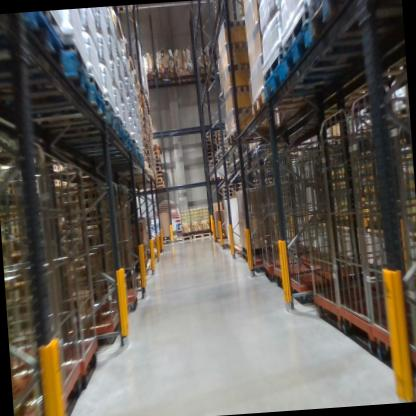pallet: (276, 0, 401, 86), (0, 38, 93, 114), (31, 77, 108, 127), (260, 59, 363, 95), (0, 14, 65, 70), (251, 87, 340, 121), (57, 104, 121, 142), (120, 270, 145, 292), (238, 246, 261, 269), (229, 241, 246, 260), (172, 232, 193, 244), (193, 230, 212, 239), (143, 262, 152, 279), (211, 234, 222, 247), (148, 250, 160, 261), (221, 238, 231, 251), (221, 173, 234, 181), (209, 175, 223, 182), (152, 140, 160, 152), (163, 238, 174, 246), (221, 188, 235, 194), (220, 193, 236, 198), (207, 160, 220, 166), (155, 183, 164, 191), (207, 147, 218, 153), (205, 139, 218, 144), (206, 156, 219, 161), (206, 143, 218, 148), (206, 152, 218, 157), (221, 185, 235, 189), (154, 182, 165, 187), (205, 135, 218, 139), (221, 182, 234, 186), (223, 197, 236, 201), (156, 178, 165, 183), (155, 155, 161, 160), (156, 175, 163, 179), (156, 171, 163, 175), (155, 159, 162, 163), (156, 167, 161, 172), (155, 163, 161, 167), (155, 152, 161, 155)
